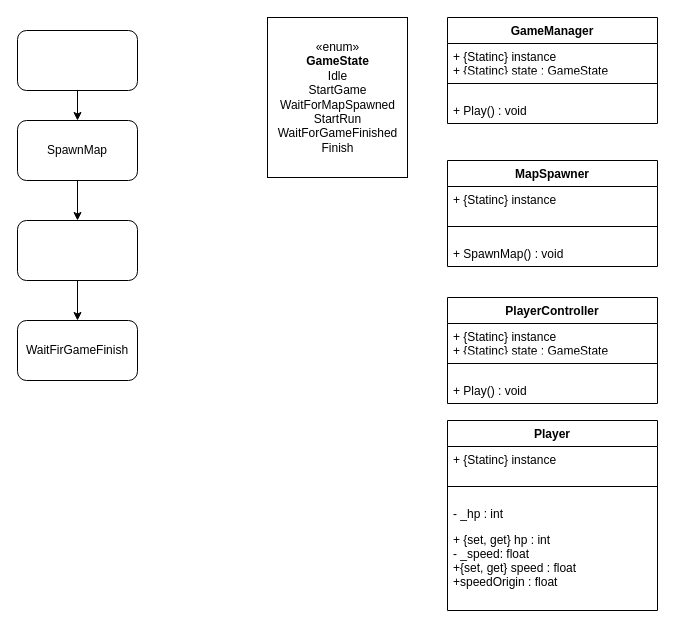
Some shapes in this 675 by 631 pixel diagram are drawn without their labels. The shapes that lost their labels are listed below. From the top down, each one's centre as x and y in pixels, then its label:
point (77, 60): Start
point (77, 250): StartRun
